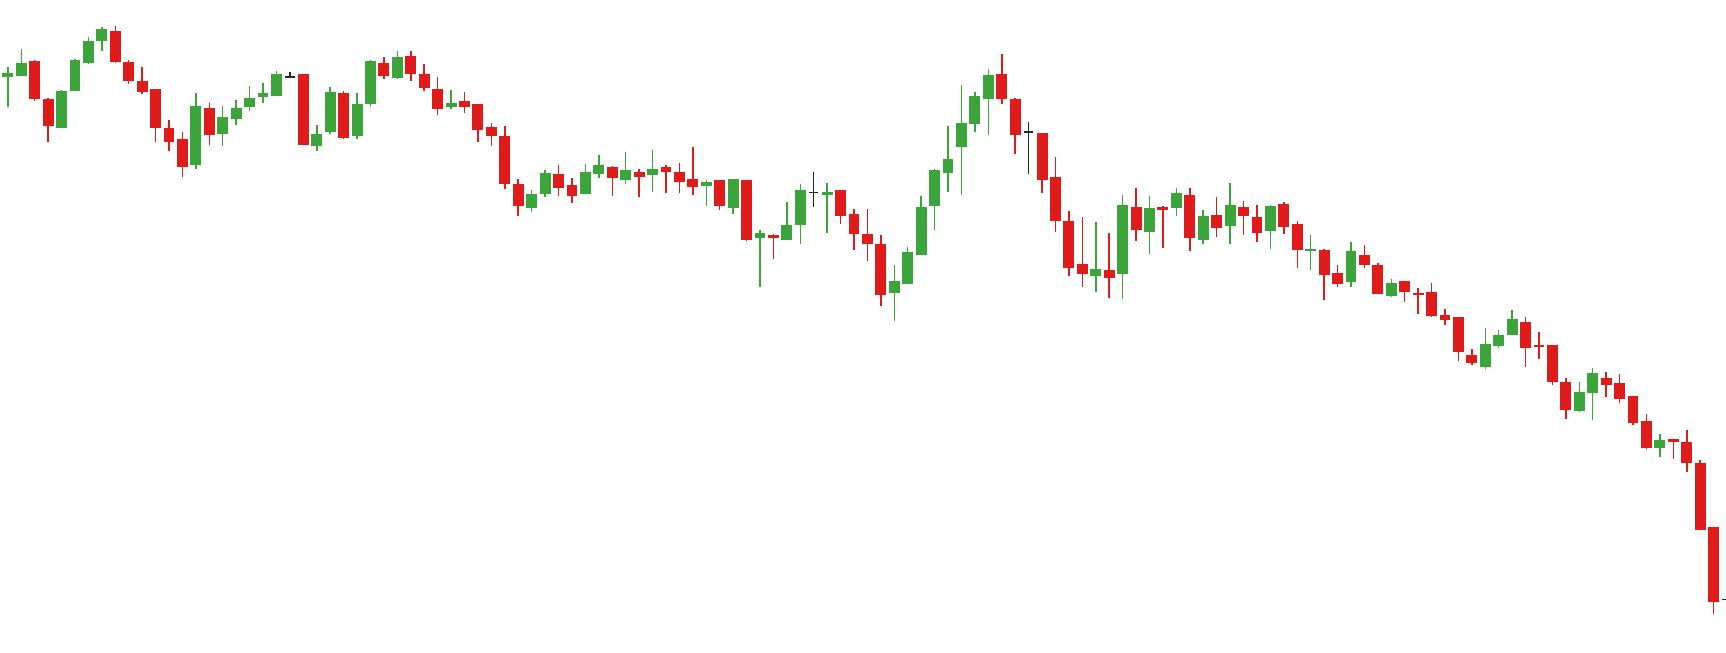buy: (753, 220, 903, 326)
